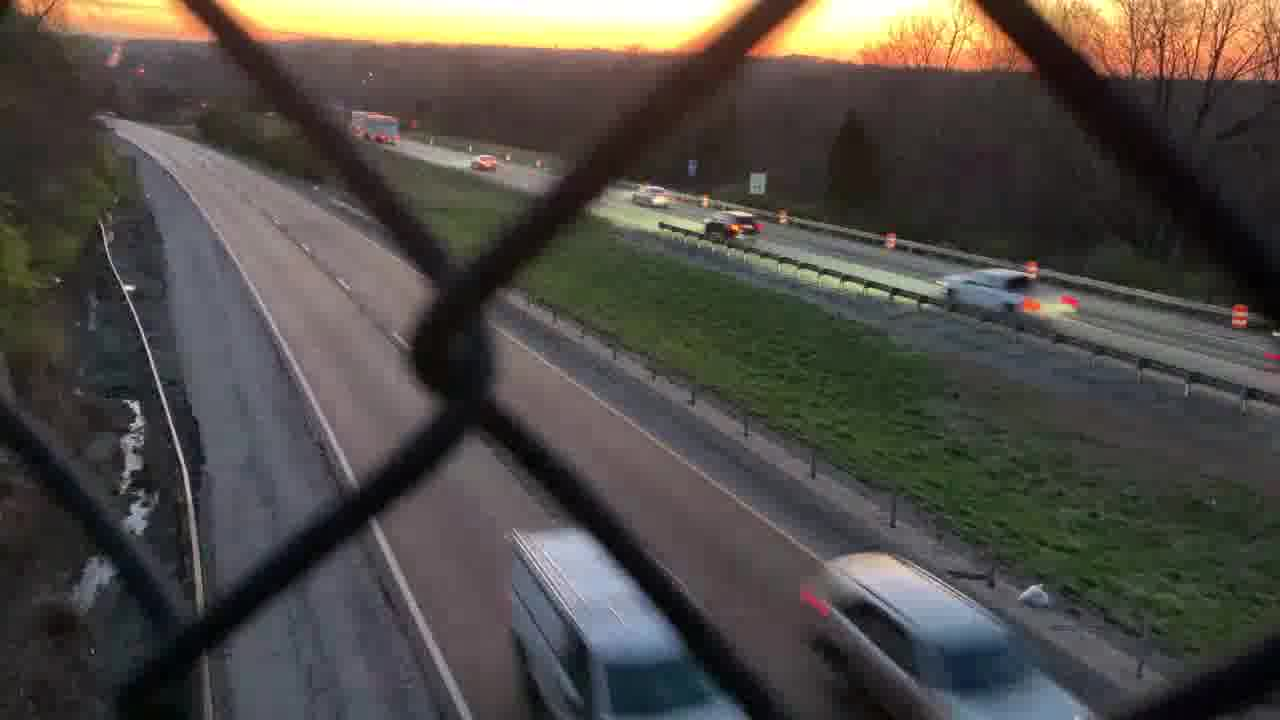largeCar: (801, 550, 1089, 720), (501, 528, 726, 720), (704, 212, 757, 243)
lightTruck: (936, 263, 1081, 322)
